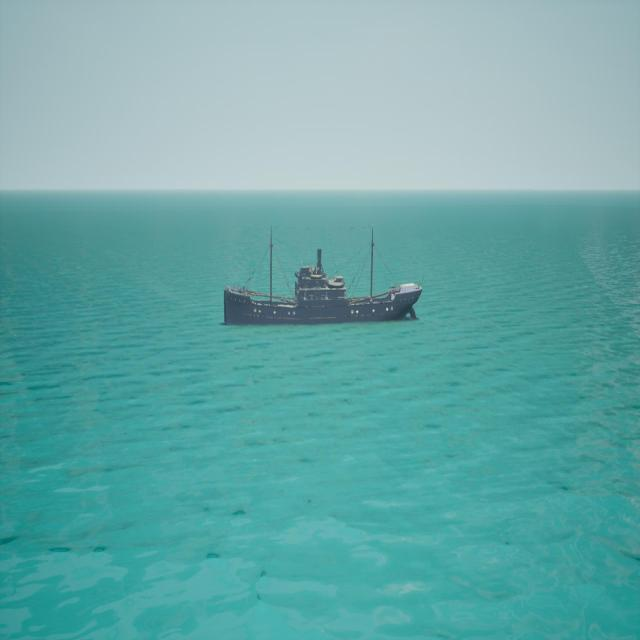fishing ship: (224, 227, 425, 327)
